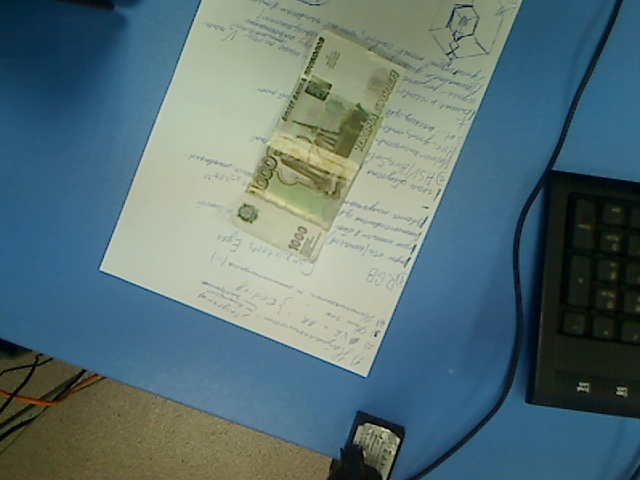banknotes: (230, 26, 411, 267)
